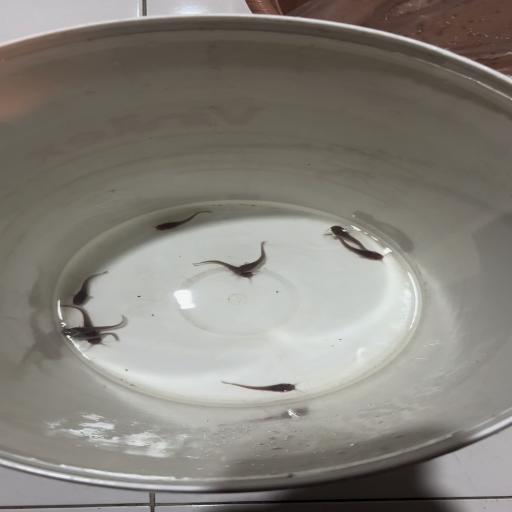lele: (60, 304, 109, 350), (151, 205, 214, 239), (66, 269, 110, 308), (215, 378, 300, 398), (325, 237, 383, 265), (231, 239, 275, 273), (186, 258, 253, 280), (69, 315, 129, 334), (327, 222, 370, 248), (60, 328, 121, 341)
